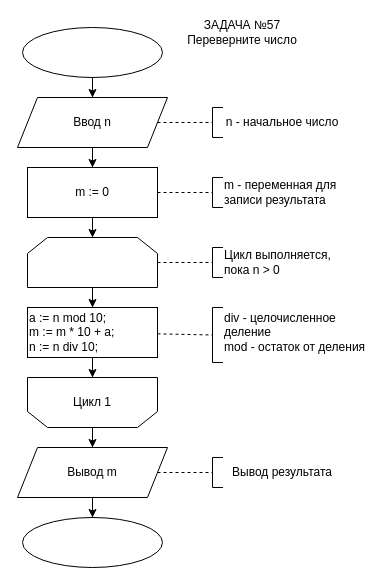
This 390x585 diagram has some shape labels left out. Here are the shapes that lost their labels. From the top down, the centre of each, then its label:
pixel 92 52: Начало
pixel 92 262: Цикл 1 n = 0
pixel 92 542: Конец
